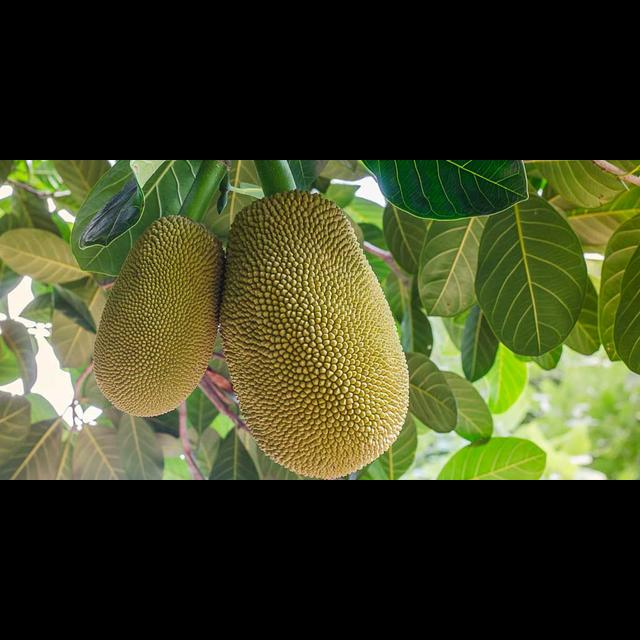mit: (215, 192, 412, 477), (89, 214, 221, 417)
